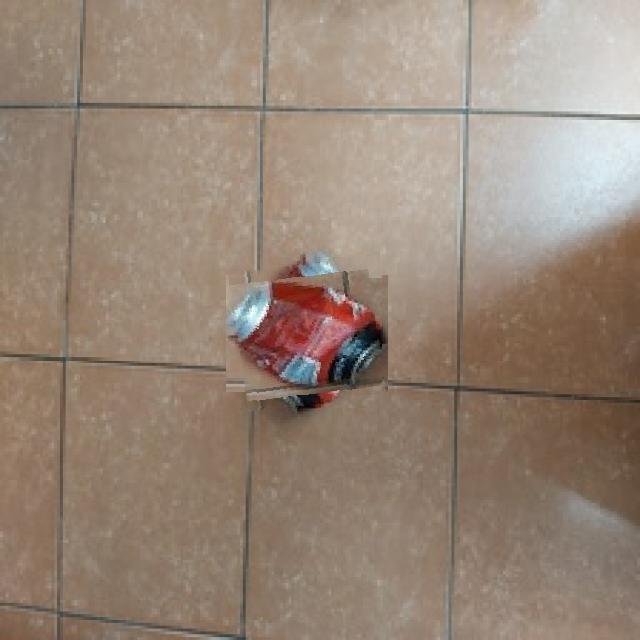recyclable: (233, 258, 382, 408)
